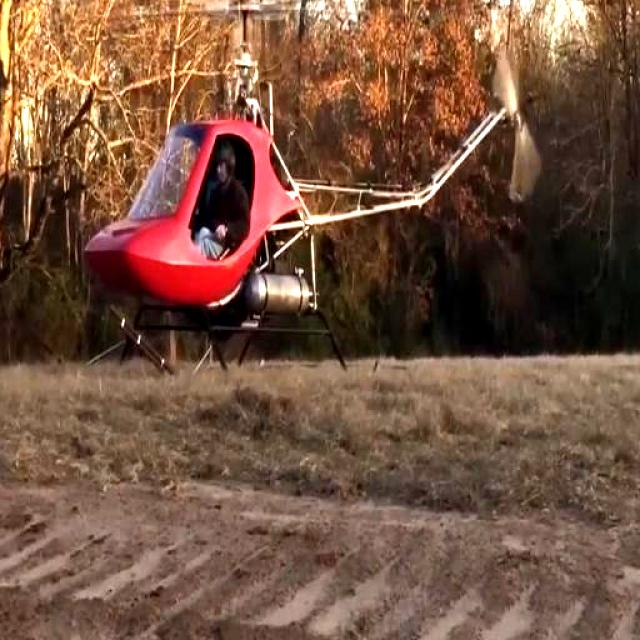drone: (62, 0, 556, 360)
